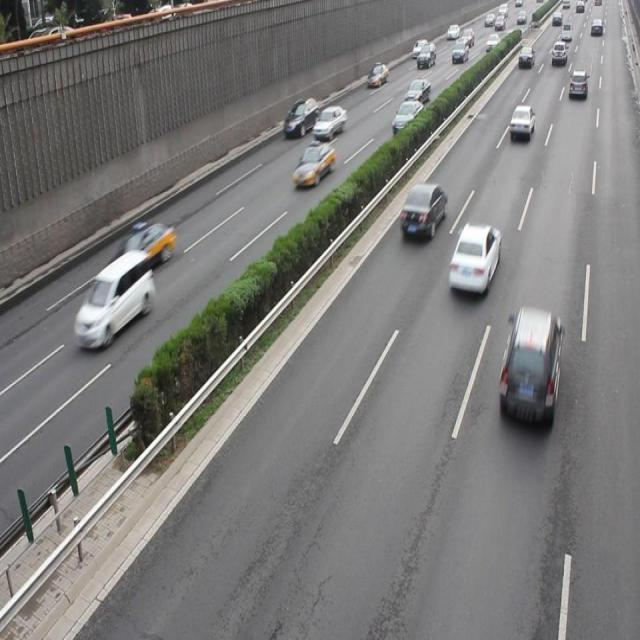car: (496, 304, 561, 425), (447, 222, 501, 294), (116, 222, 174, 272), (399, 182, 445, 238), (292, 140, 335, 188), (283, 96, 318, 137), (391, 100, 423, 138), (312, 104, 346, 139), (508, 105, 534, 140)
truck: (74, 248, 154, 348)
